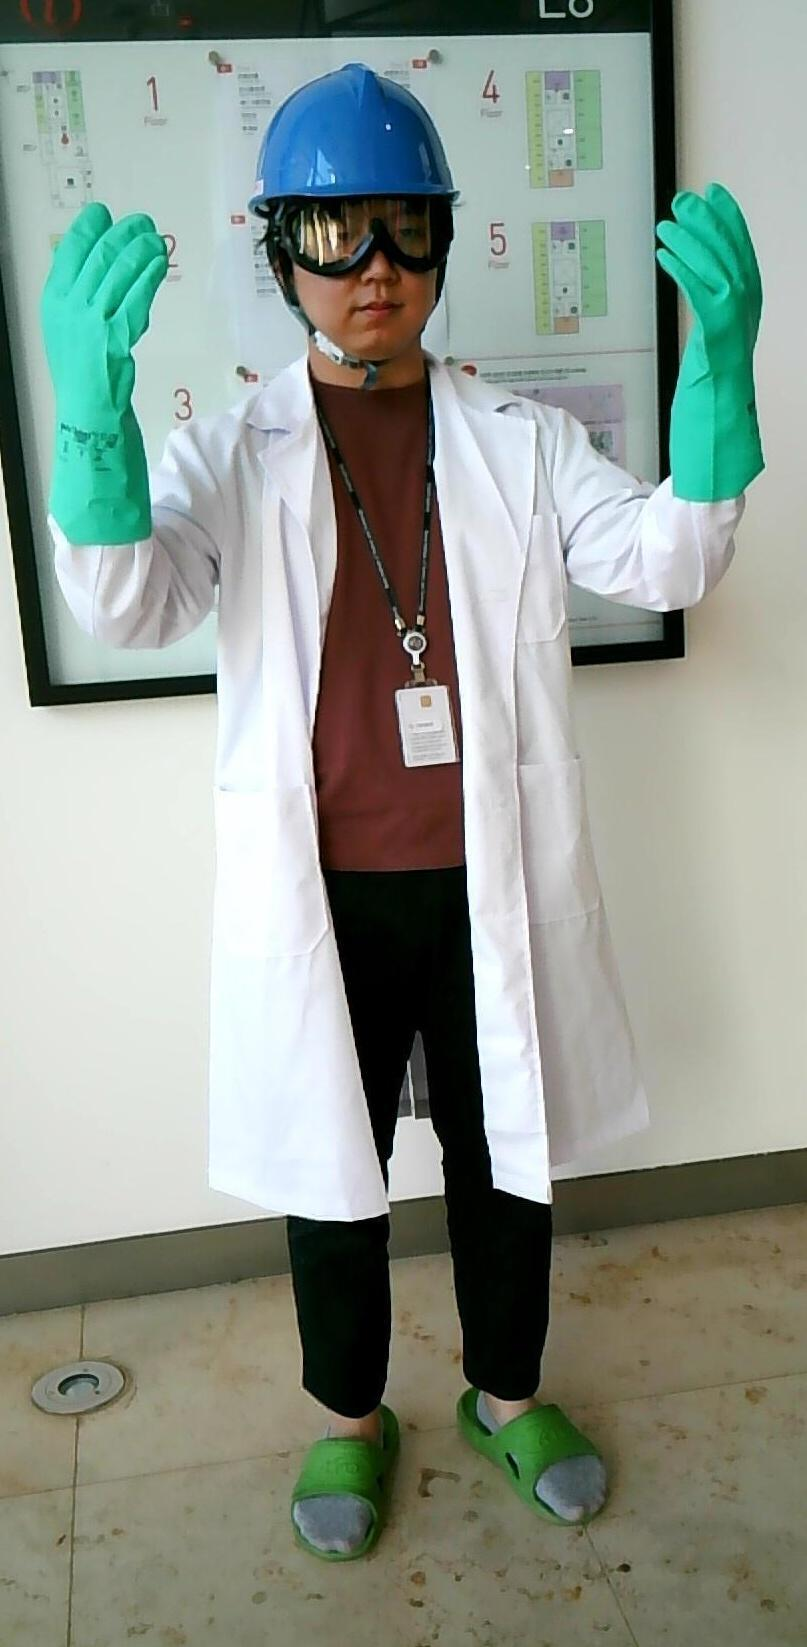lab_coat: (196, 431, 591, 1191)
